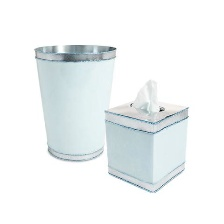tissue: (126, 72, 166, 117)
